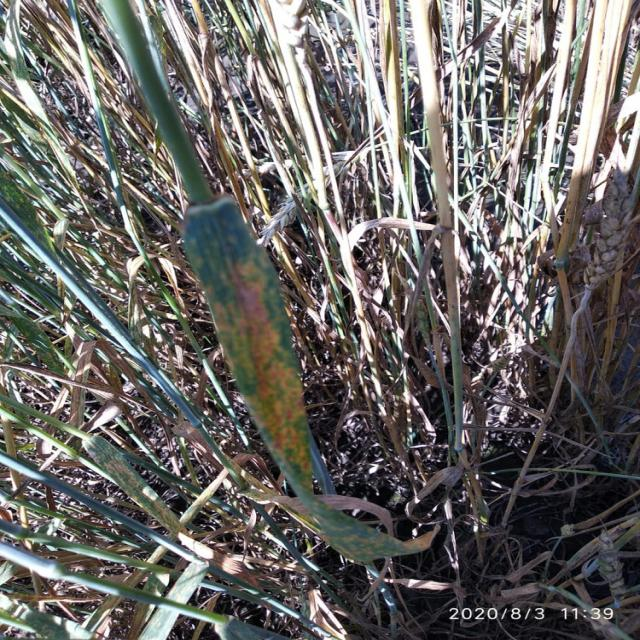wheat-septoria: (185, 197, 313, 499)
